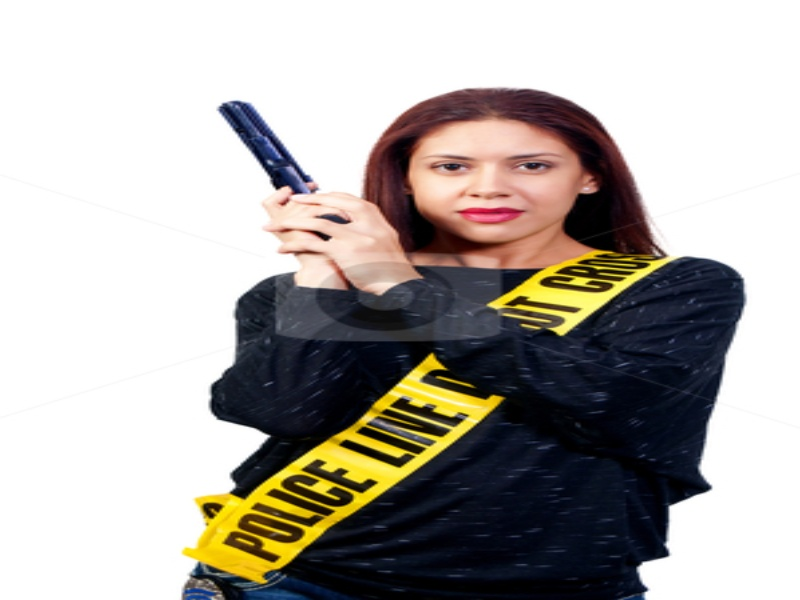gun: (213, 97, 351, 257)
